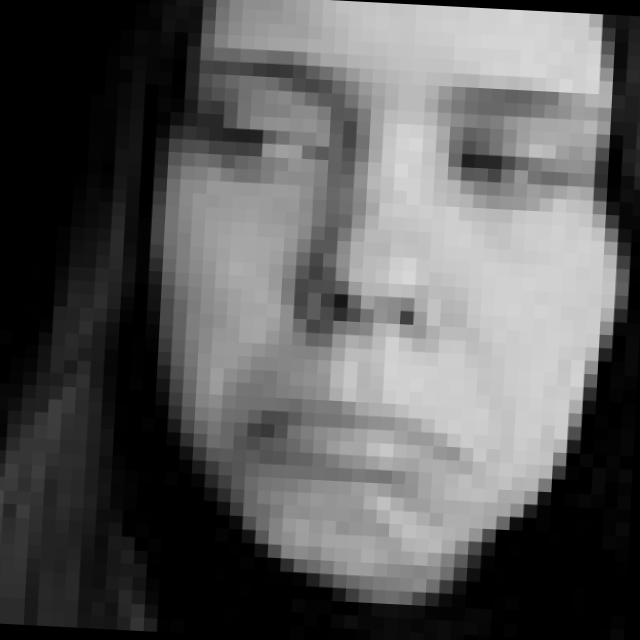sad: (160, 46, 602, 532)
